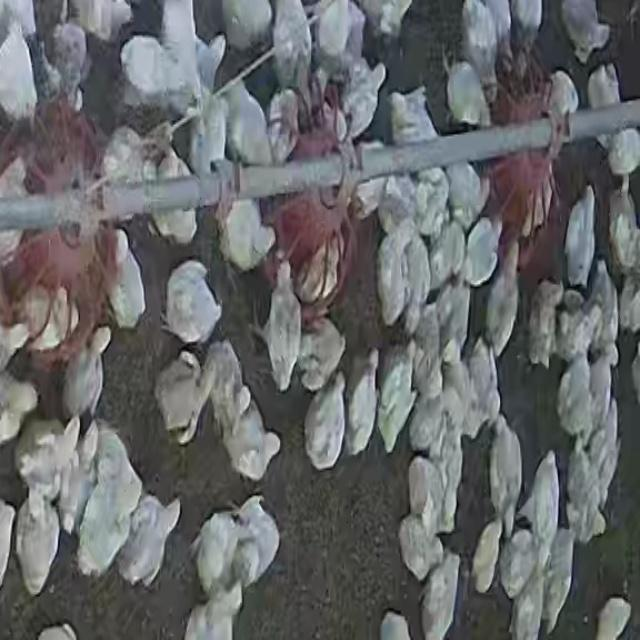chicken: (76, 426, 146, 577), (117, 10, 210, 123), (137, 139, 199, 252), (114, 492, 182, 588), (218, 80, 276, 172), (195, 343, 244, 446), (223, 401, 282, 483), (0, 152, 36, 286), (564, 421, 604, 540), (218, 196, 277, 276), (231, 497, 282, 589), (60, 328, 108, 424), (102, 235, 149, 332), (158, 355, 211, 441), (55, 416, 94, 532), (302, 373, 348, 471), (16, 495, 60, 596), (519, 453, 559, 564), (483, 241, 523, 352), (376, 346, 416, 452), (374, 220, 414, 326), (338, 56, 386, 144), (190, 508, 239, 594), (0, 18, 40, 122), (298, 314, 348, 396), (13, 415, 63, 496), (584, 61, 626, 157), (270, 0, 312, 95), (42, 17, 90, 100), (560, 184, 598, 285), (344, 353, 379, 459), (188, 90, 227, 185), (26, 284, 76, 357), (168, 263, 216, 339), (269, 258, 296, 392), (555, 352, 595, 440), (560, 287, 604, 367), (558, 0, 612, 65), (99, 124, 152, 190), (605, 182, 640, 281), (540, 528, 574, 628), (443, 57, 491, 127), (314, 0, 356, 80), (494, 418, 524, 528), (525, 279, 562, 368), (183, 584, 246, 635), (433, 415, 463, 521), (420, 556, 459, 635), (408, 381, 447, 460), (500, 525, 538, 605), (220, 0, 276, 54), (408, 458, 443, 544), (265, 88, 303, 167), (388, 87, 438, 147), (465, 340, 497, 433), (442, 160, 483, 232), (432, 267, 468, 349), (354, 1, 414, 49), (66, 0, 130, 44), (158, 0, 202, 64), (1, 374, 40, 445), (411, 166, 450, 237), (461, 216, 499, 288), (398, 516, 438, 584), (350, 163, 396, 221), (592, 263, 620, 356), (470, 520, 505, 594), (436, 372, 467, 453), (595, 401, 620, 501), (584, 351, 614, 434), (433, 217, 466, 291), (374, 177, 416, 235), (413, 292, 443, 372), (546, 69, 580, 129), (603, 126, 640, 179), (479, 1, 513, 58), (590, 596, 632, 639), (0, 503, 17, 598), (508, 0, 543, 45), (1, 318, 33, 367), (617, 269, 640, 335), (2, 0, 38, 42), (378, 611, 413, 640), (36, 622, 79, 640)
